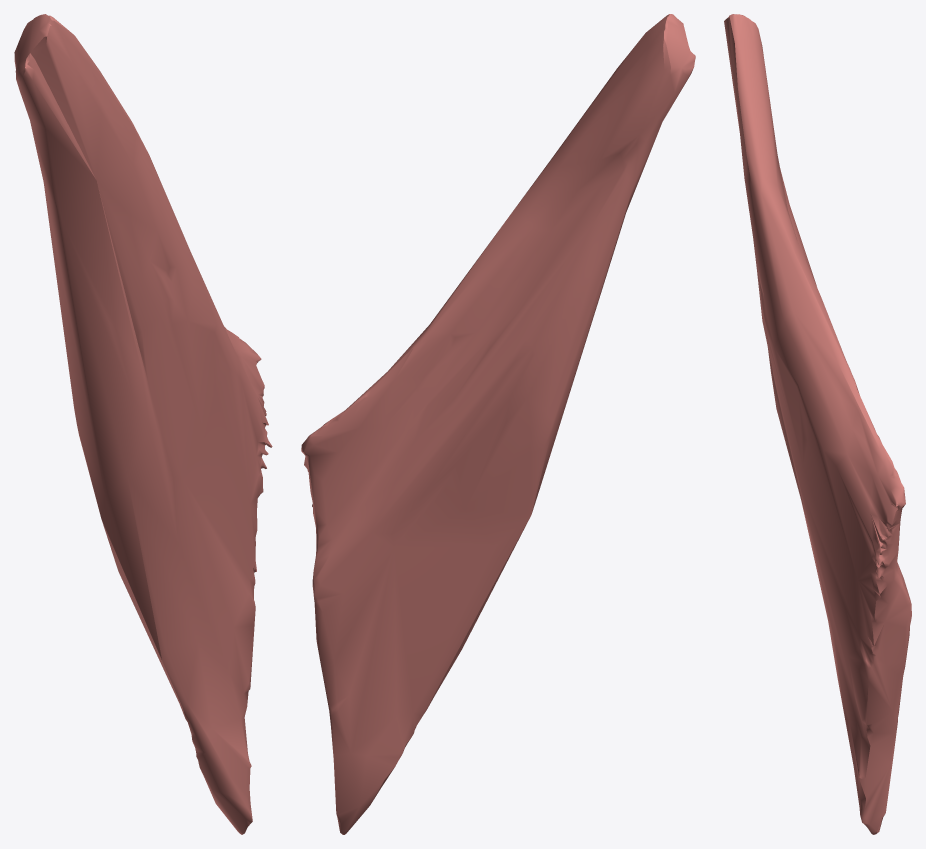
File: fma22454_fj1401m.glb
The picture shows the model from 3 angles, left to right: view 1: azimuth 30°, elevation 25°; view 2: azimuth 150°, elevation 25°; view 3: azimuth 270°, elevation 25°; orthographic projection. The views are drawn at different scales.
Parts seen in each view (by area): view 1: FMA22454_FJ1401M; view 2: FMA22454_FJ1401M; view 3: FMA22454_FJ1401M.
Part boxes in pixels (x1=…): FMA22454_FJ1401M: x1=14, y1=14, x2=272, y2=834; FMA22454_FJ1401M: x1=301, y1=14, x2=695, y2=834; FMA22454_FJ1401M: x1=724, y1=14, x2=911, y2=834.
Bounding box in the file's own units: 0.0754 × 0.1968 × 0.0468.
